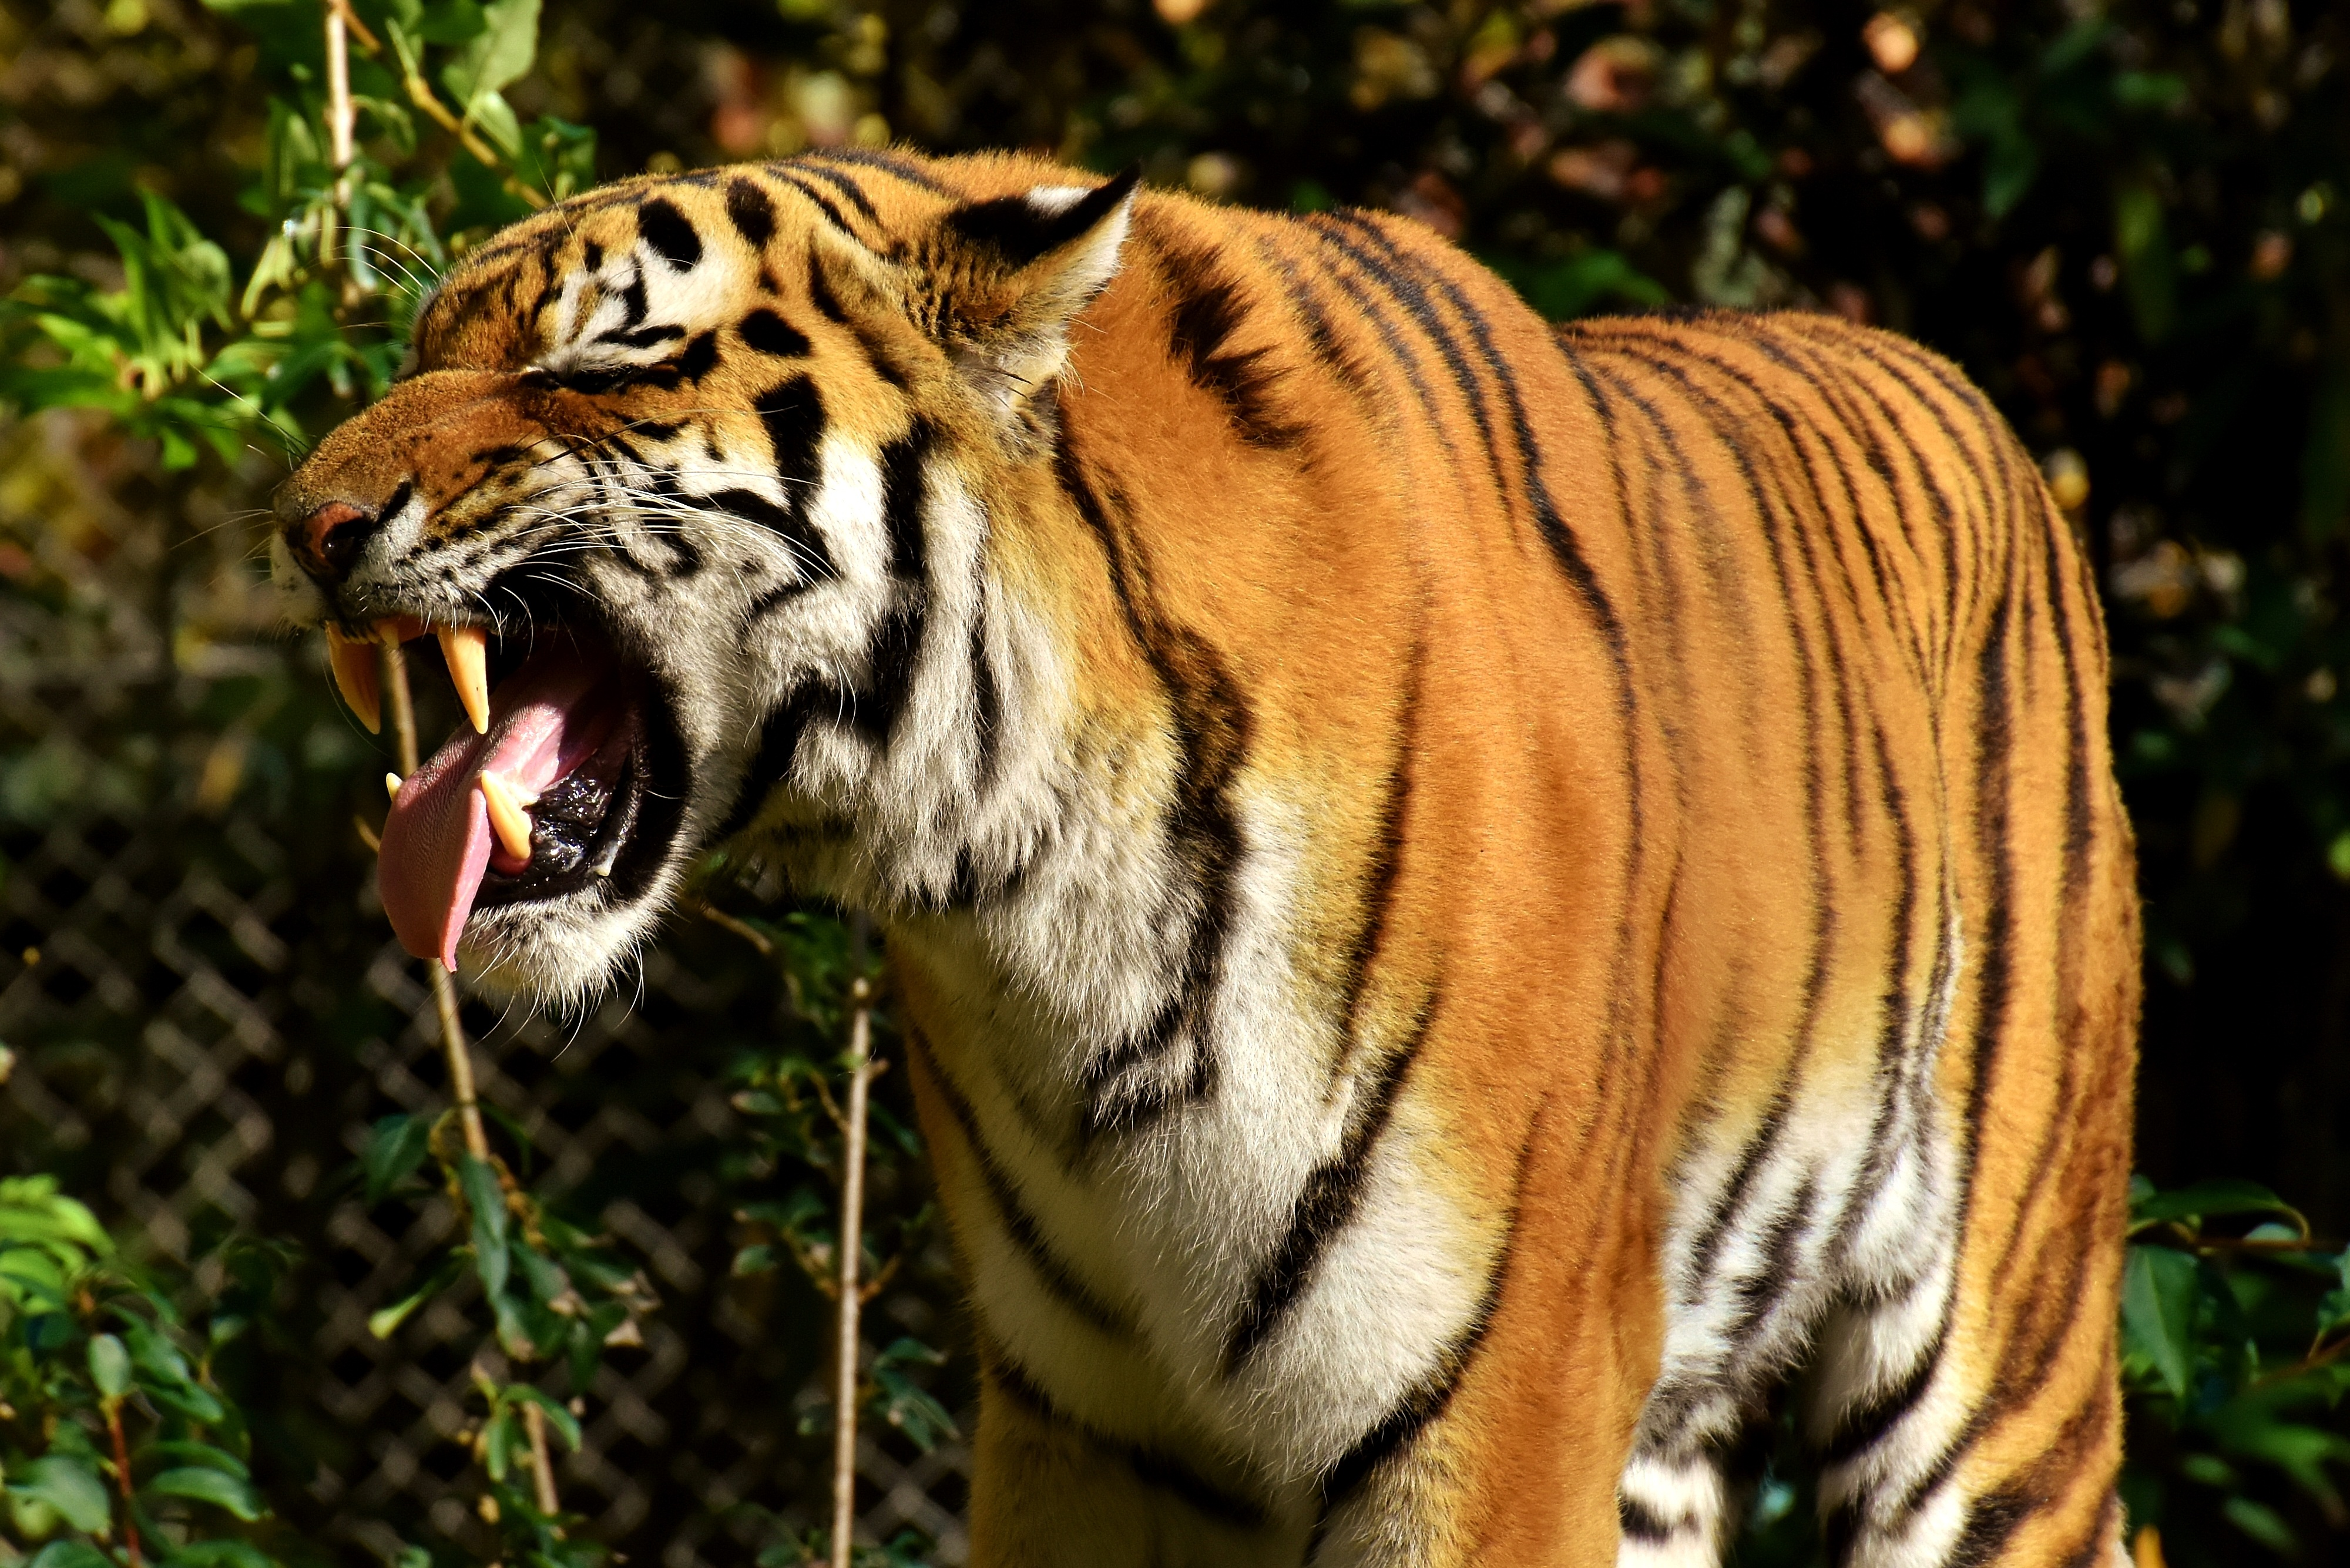tiger: (297, 166, 2161, 1491)
